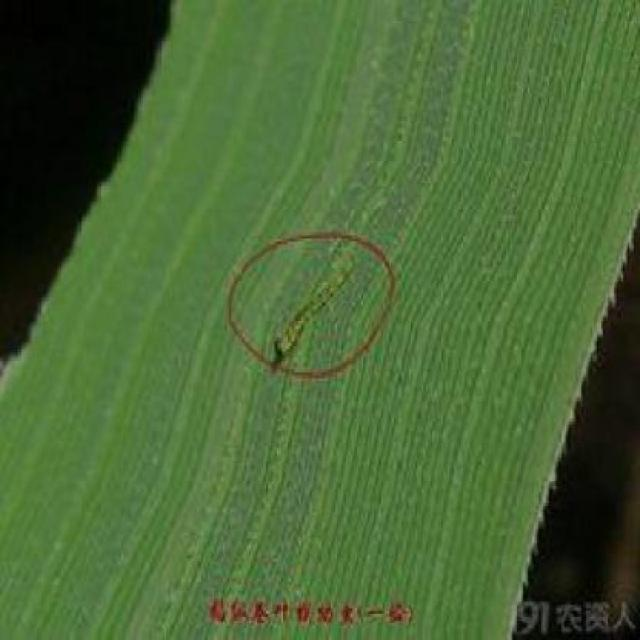leaf-folder: (269, 239, 376, 367)
